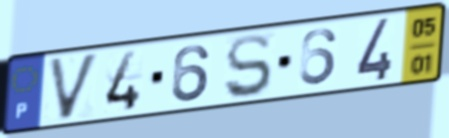4: (353, 15, 395, 84), (102, 49, 143, 113)
6: (298, 27, 340, 88), (172, 43, 212, 103)
S: (223, 31, 275, 101)
V: (45, 50, 103, 124)
